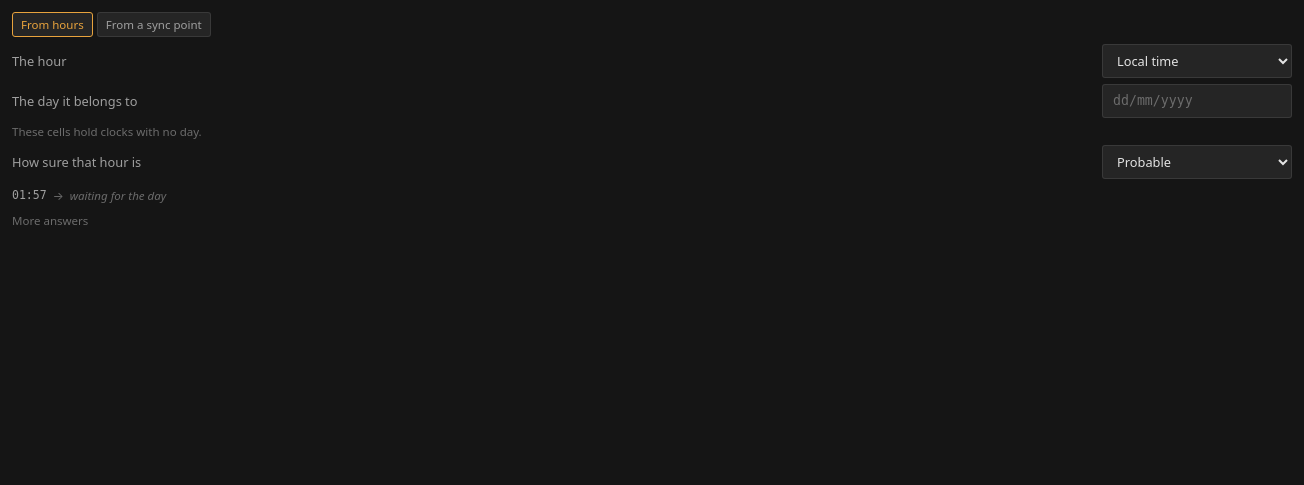
the hours form, as one mode of the pass › folds away the answers that have a right default
Click the button "More answers".
click(50, 219)  # box [12,207,88,231]
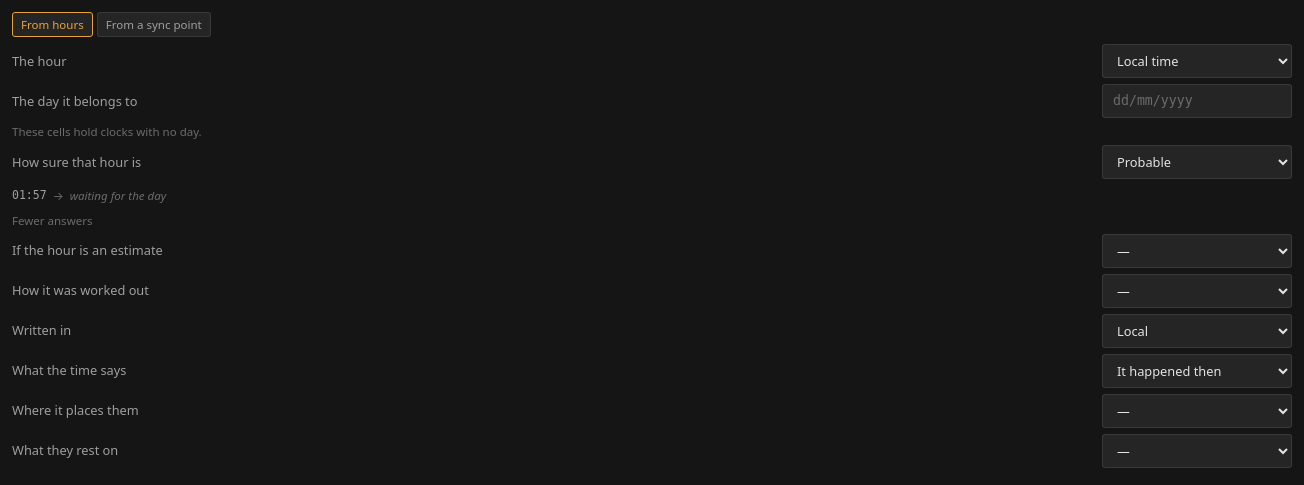
Expected: the dropdown named "What the time says" is shown, [1102,354,1292,388]
Expected: the dropdown named "The time zone this column is in" is shown, [1102,314,1292,348]
